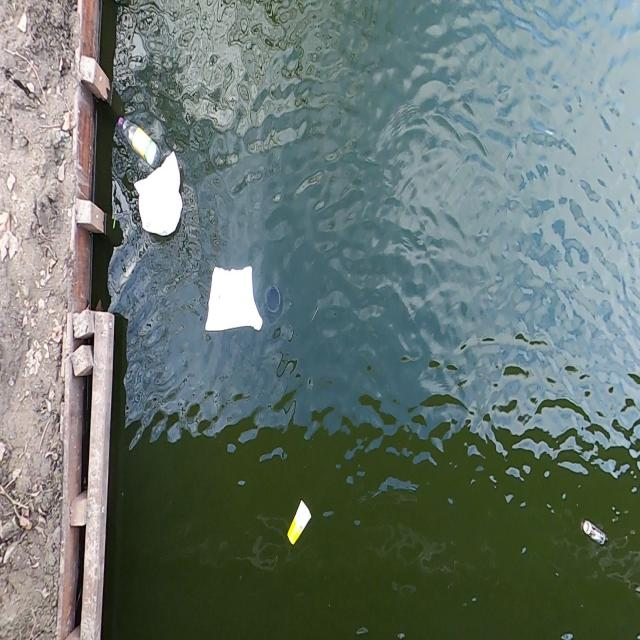Autre plastique: (127, 139, 193, 245), (199, 252, 269, 342)
Bouteille plastique: (114, 115, 167, 171)
Non plastique: (284, 499, 314, 548), (582, 521, 610, 552)
